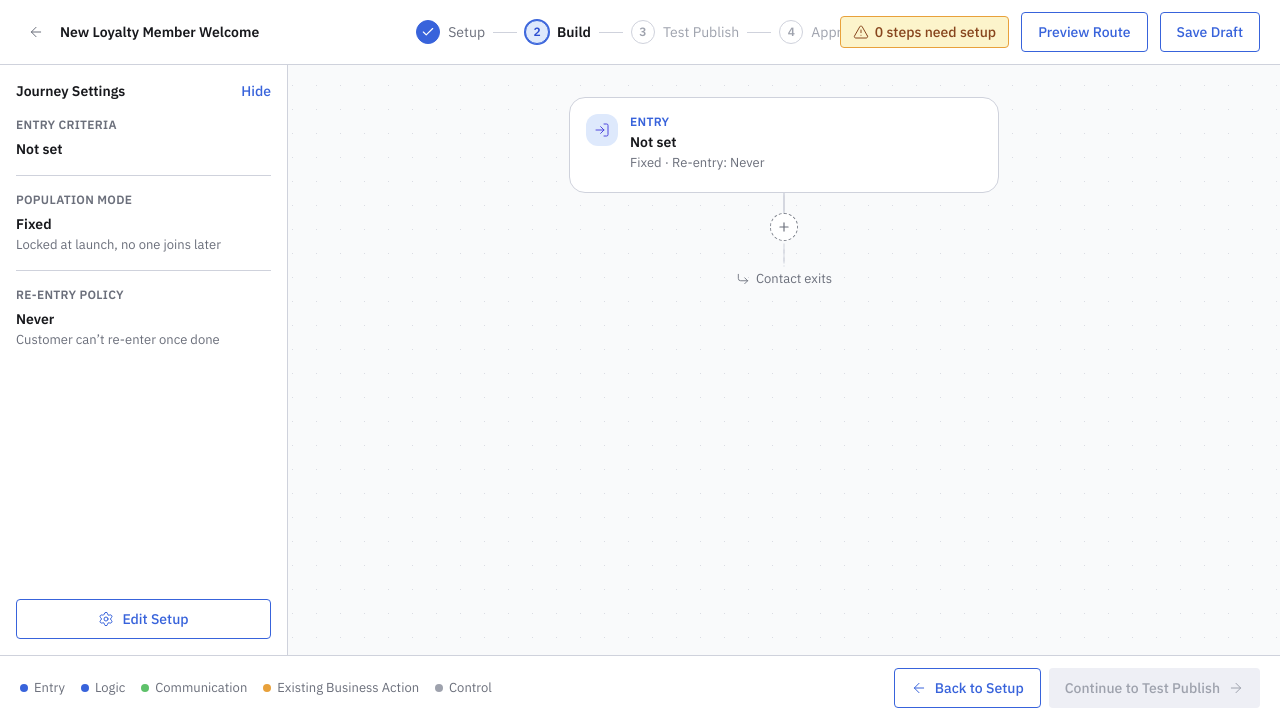
Test: a Condition opens exactly two branches, and cannot be nested inside one
The width and height of the screenshot is (1280, 720).
Click the button named "Add a Step".
click(784, 227)  # box x1=770 y1=213 x2=798 y2=241
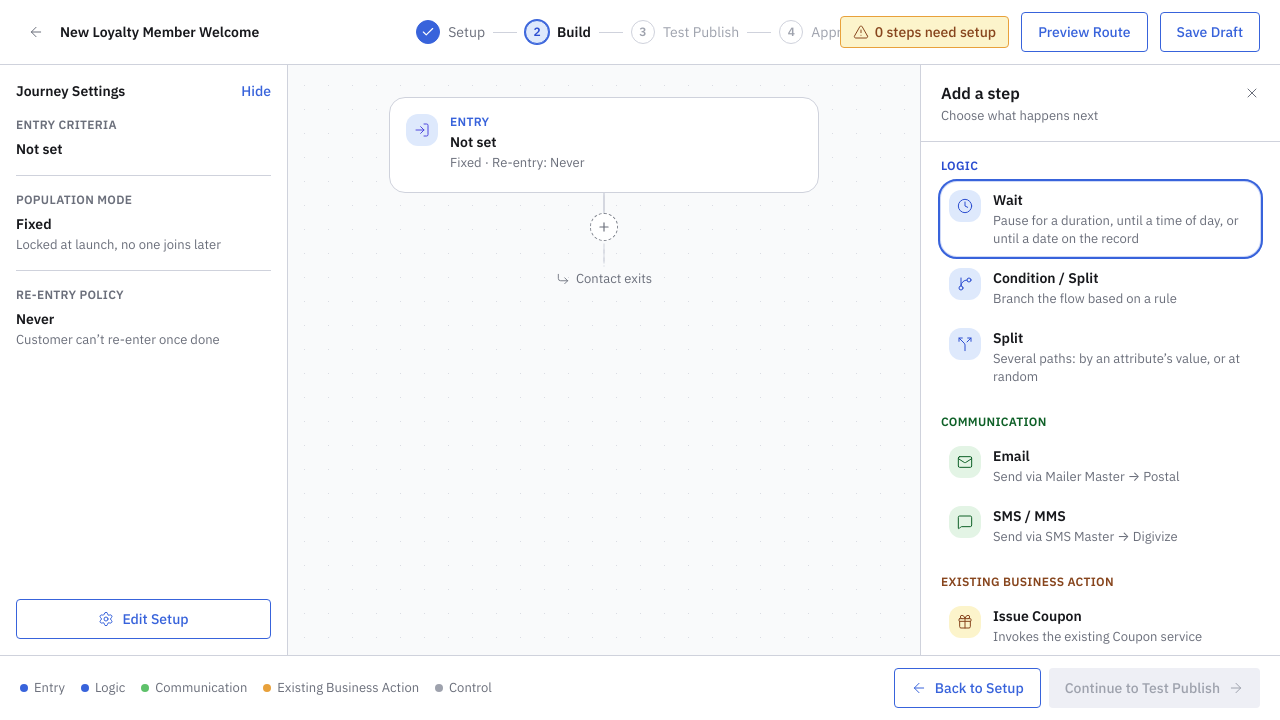
Click the button "Condition / Split".
click(1100, 288)  # box x1=941 y1=260 x2=1260 y2=316
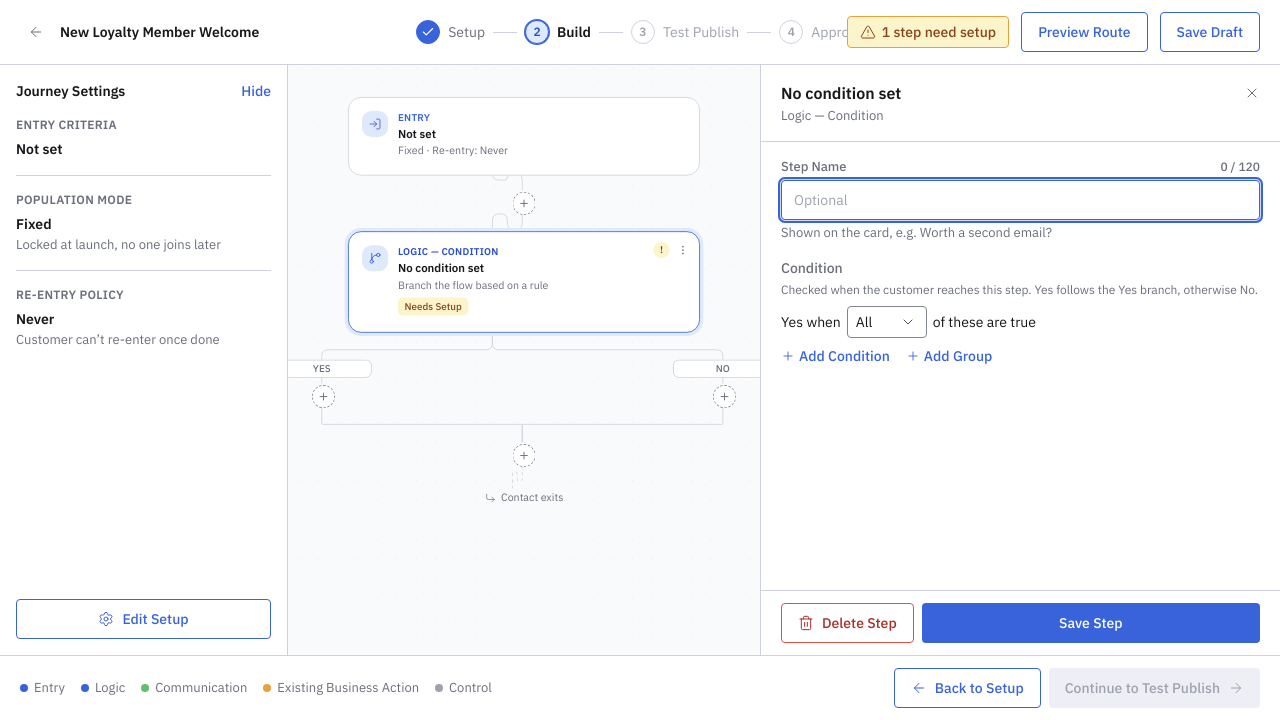
Now the button with aria-label "condition step" is shown, box x1=348 y1=231 x2=700 y2=333
Now the number of buttons named "Add a Step" is 4
Click the 2nd button named "Add a Step".
click(323, 397)  # box x1=312 y1=385 x2=335 y2=408
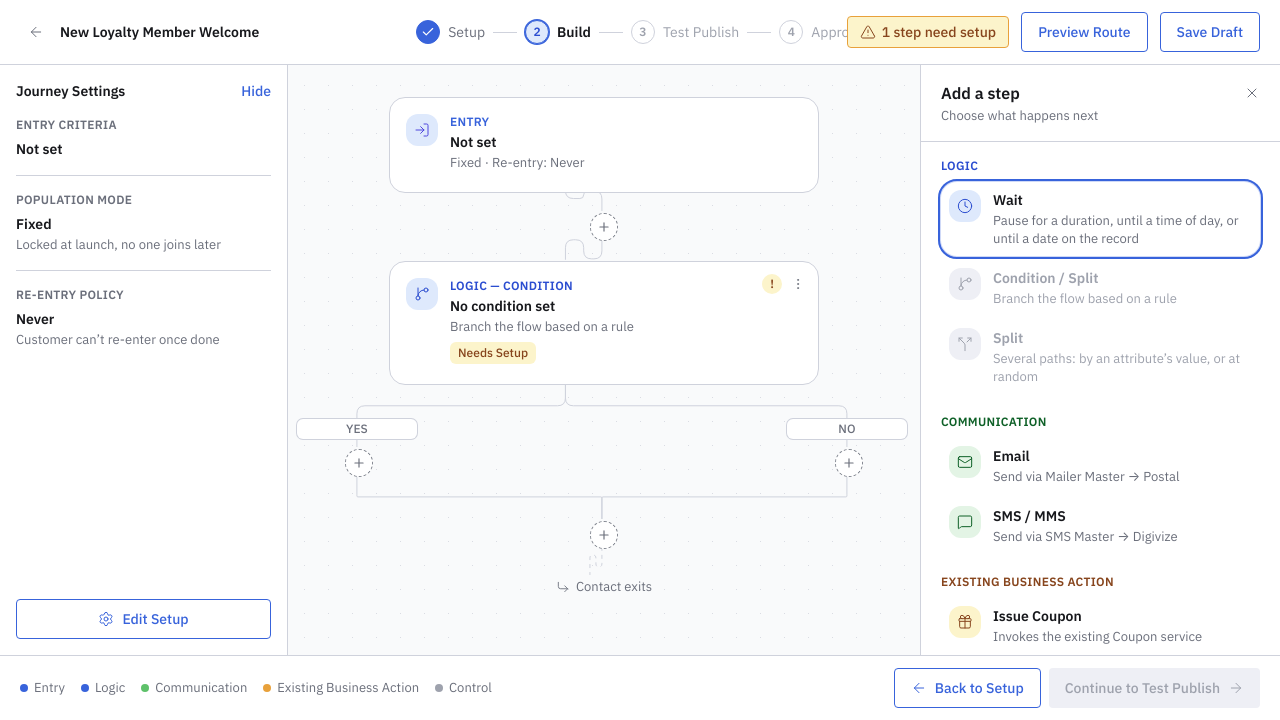
Now the dialog "Add a step" is shown, box x1=920 y1=65 x2=1279 y2=655
Now the button "Condition / Split" is disabled, box x1=941 y1=260 x2=1260 y2=316
